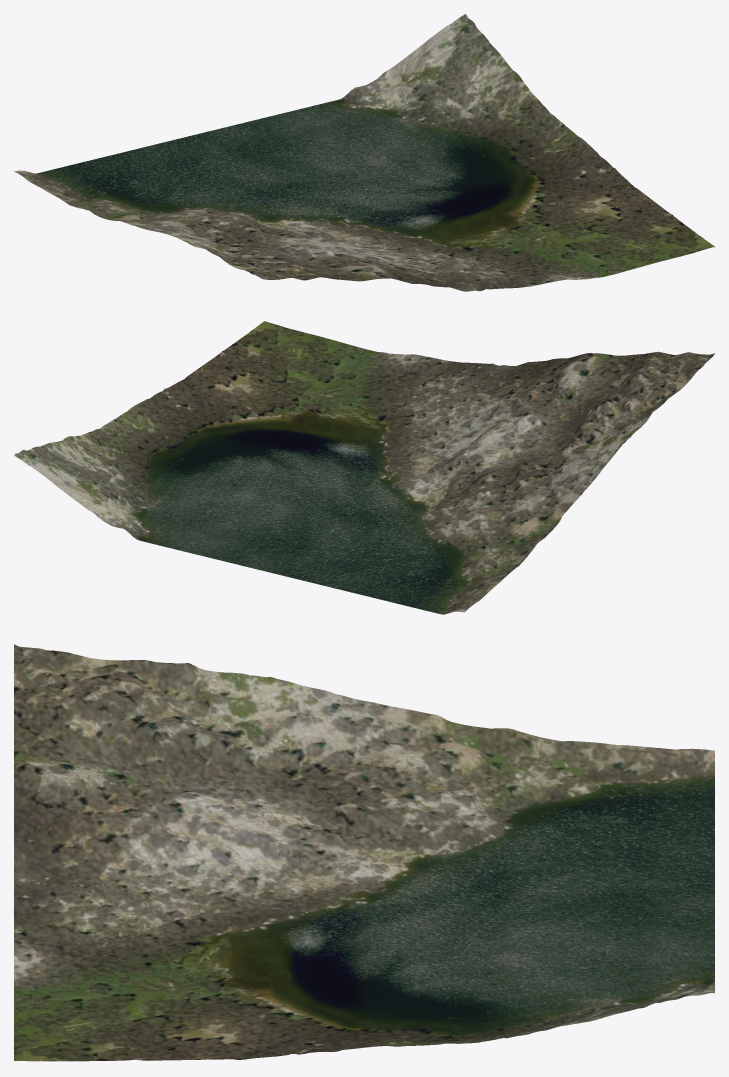
3 renders of one model, top to bottom at view 1: azimuth 30°, elevation 25°; view 2: azimuth 150°, elevation 25°; view 3: azimuth 270°, elevation 25°, orthographic. The views are drawn at different scales.
Size of the model in its own units: 500 by 89.74 by 481.
1 material, 1 textured.
